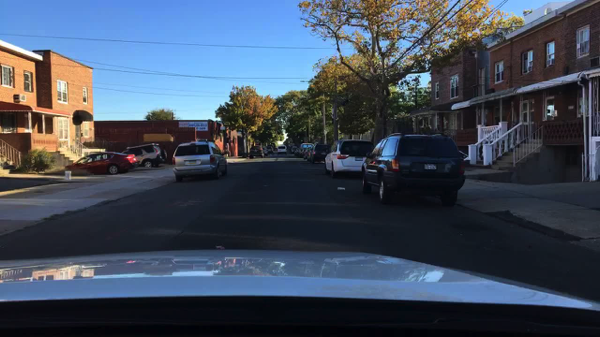car: (361, 132, 466, 207), (172, 139, 228, 183), (323, 140, 373, 179), (64, 153, 136, 176), (123, 143, 167, 167), (310, 145, 327, 164), (248, 146, 261, 160), (298, 143, 309, 159), (277, 145, 287, 155), (293, 148, 301, 159), (303, 147, 310, 159), (262, 145, 269, 157), (266, 145, 275, 154), (289, 144, 296, 153), (218, 161, 222, 162)
